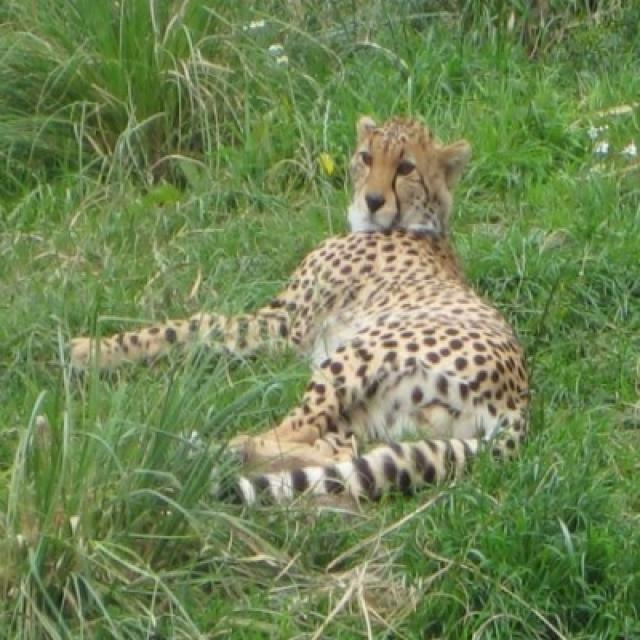Cheetah: (69, 113, 542, 512)
